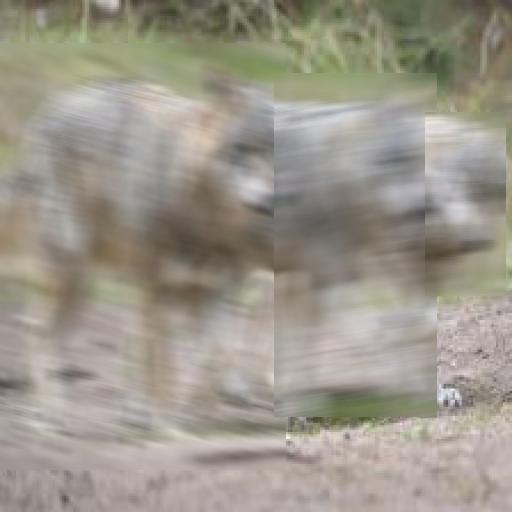wolf: (0, 43, 286, 470), (274, 73, 437, 417), (425, 112, 506, 296)
